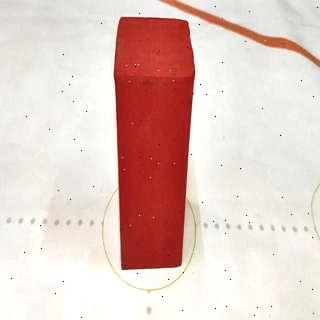redbox: (112, 15, 196, 271)
